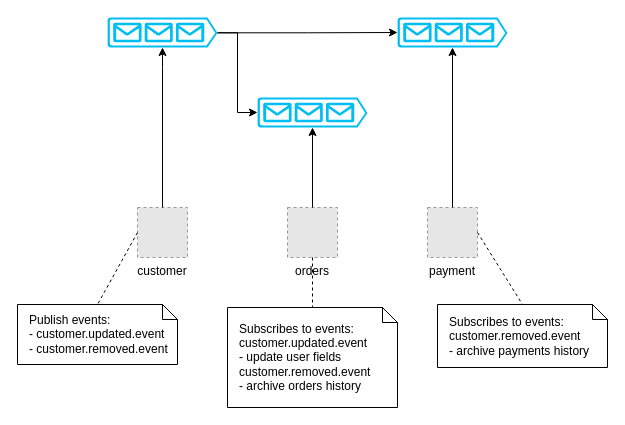
Some shapes in this 625 by 425 pixel diagram are drawn without their labels. Grey dashed boxes stand in for pictures. The shapes that lost their labels are listed below. From the top down, each one's box as (x1, y1, x2, y2) in pixels, then its label:
(107, 17, 217, 47): events
(397, 17, 507, 47): payment-service
(257, 97, 367, 127): orders-service
